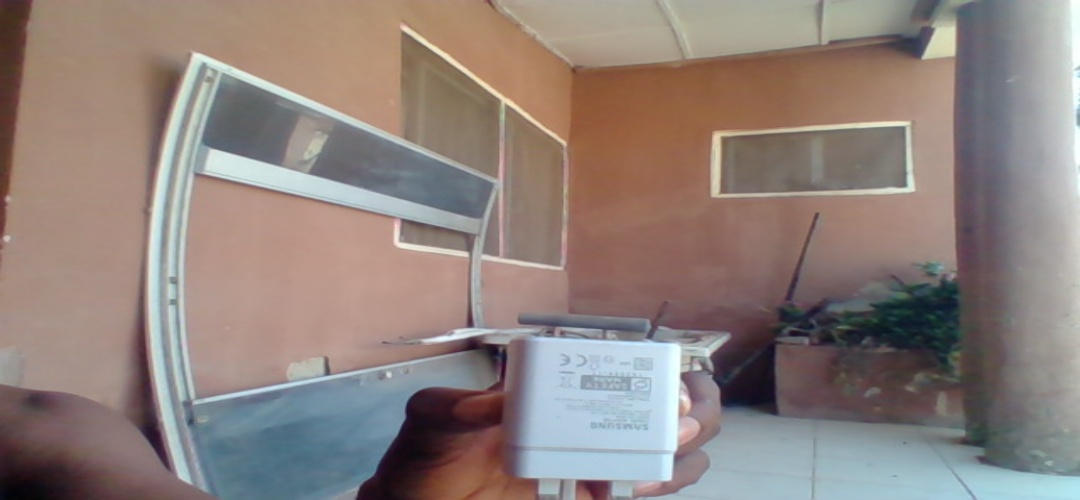phone_charger: (499, 335, 684, 499)
